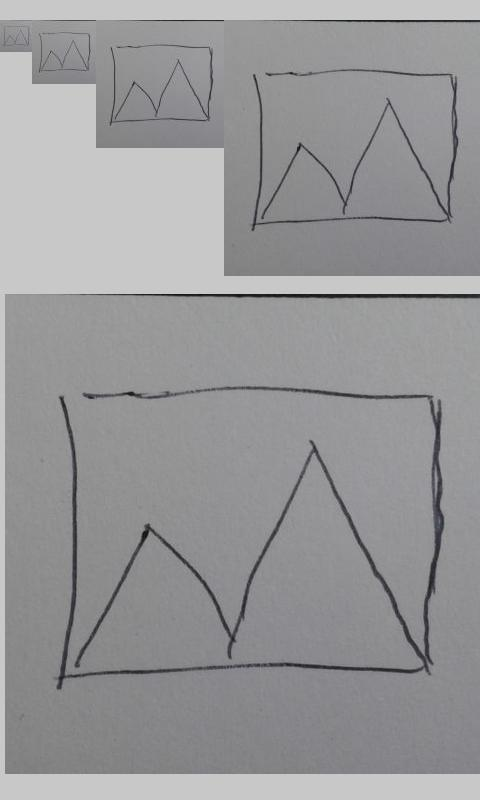image_view: (56, 384, 447, 687), (247, 66, 461, 229), (109, 44, 213, 124), (38, 32, 92, 73), (3, 25, 30, 47)
